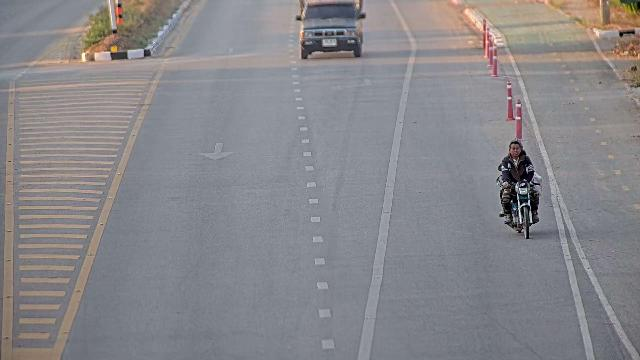motorcycle: (494, 150, 543, 238)
pickup-truck: (295, 0, 367, 59)
